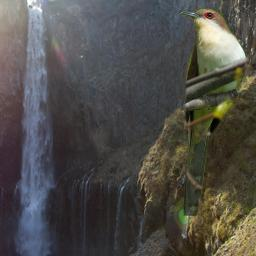Cuckoo: (178, 7, 249, 216)
